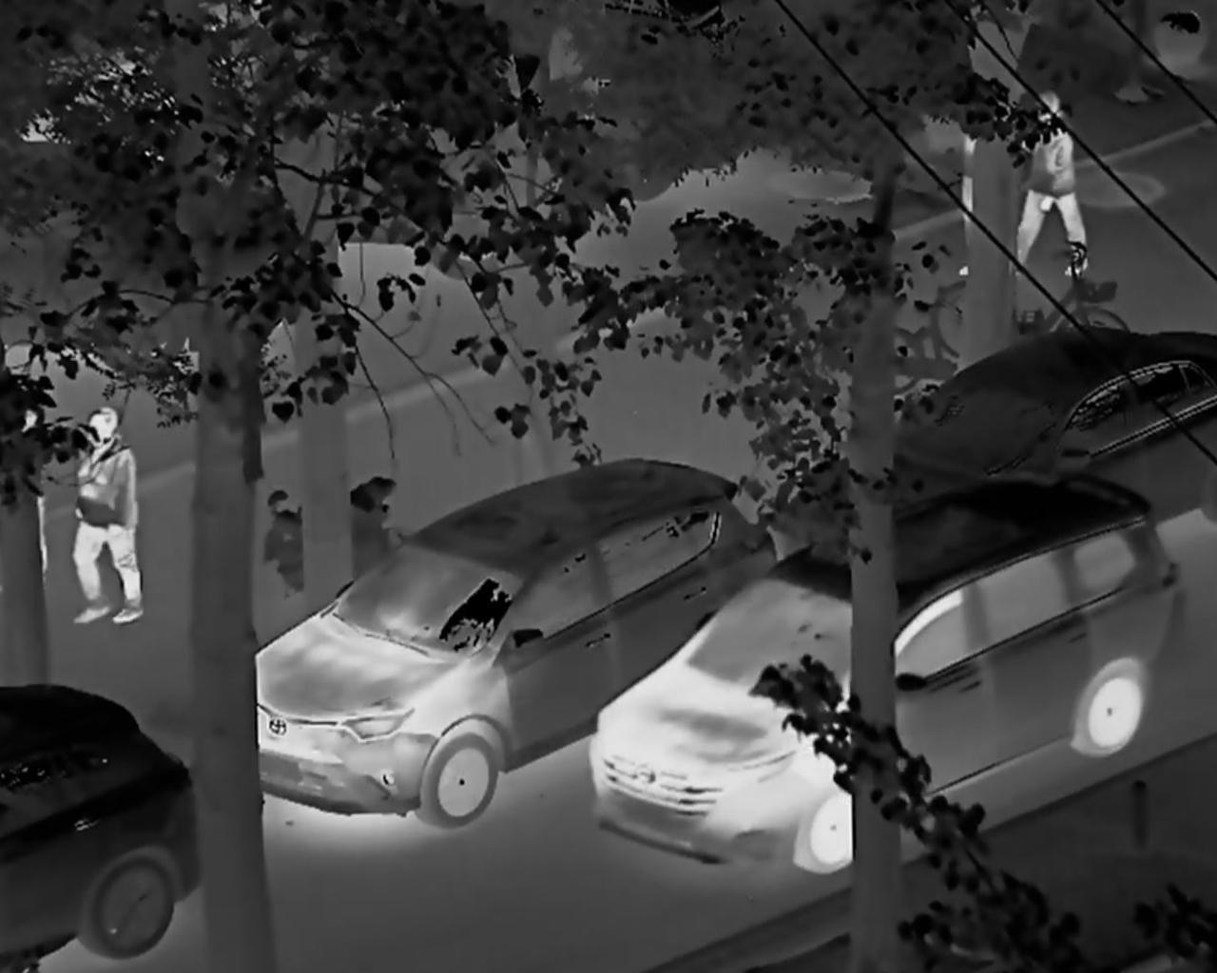person: (52, 391, 153, 655), (1013, 86, 1106, 297)
